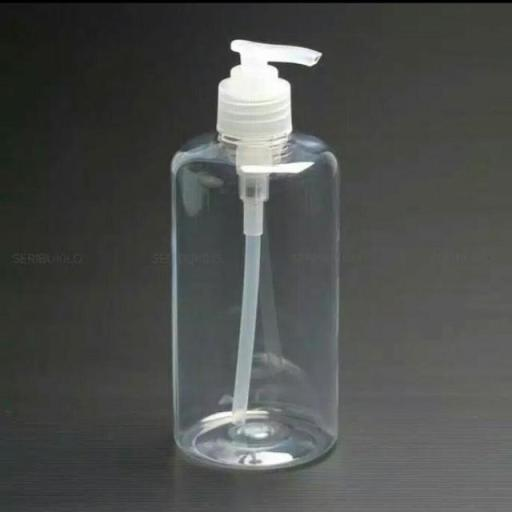plastic: (146, 33, 376, 475)
